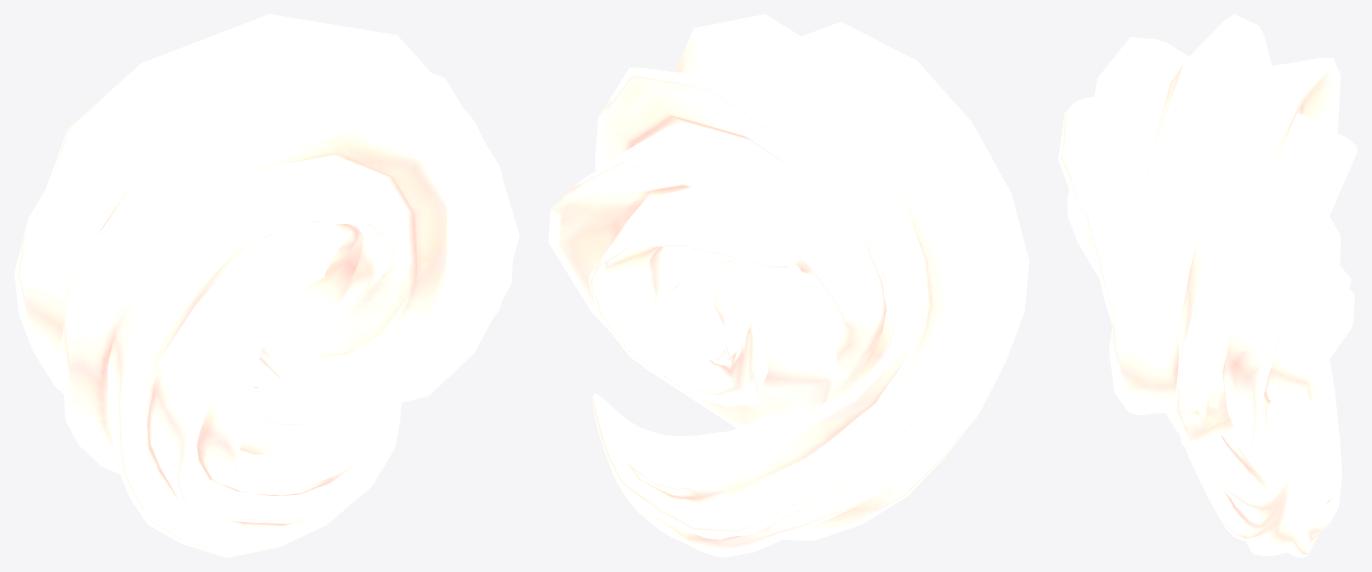
Rendered from sample-rosette-3d.glb.
3 renders of one model, left to right at view 1: azimuth 30°, elevation 25°; view 2: azimuth 150°, elevation 25°; view 3: azimuth 270°, elevation 25°, orthographic. The views are drawn at different scales.
Visible parts, largest first — view 1: Cream_round2; view 2: Cream_round2; view 3: Cream_round2.
Boxes of the visible parts, x1=… form: Cream_round2: x1=14, y1=14, x2=519, y2=557; Cream_round2: x1=548, y1=14, x2=1029, y2=557; Cream_round2: x1=1058, y1=14, x2=1357, y2=557.
Size of the model in its own units: 0.0152 by 0.0168 by 0.00929.
1 material, 1 textured.
